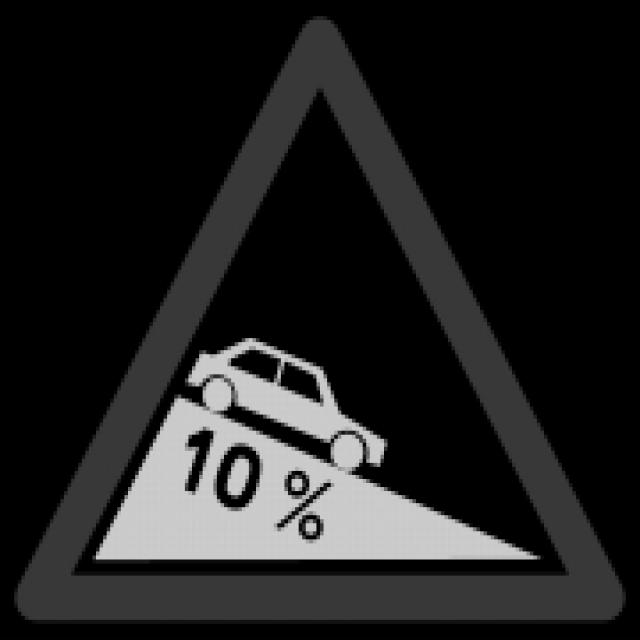slope_danger: (5, 0, 640, 640)
